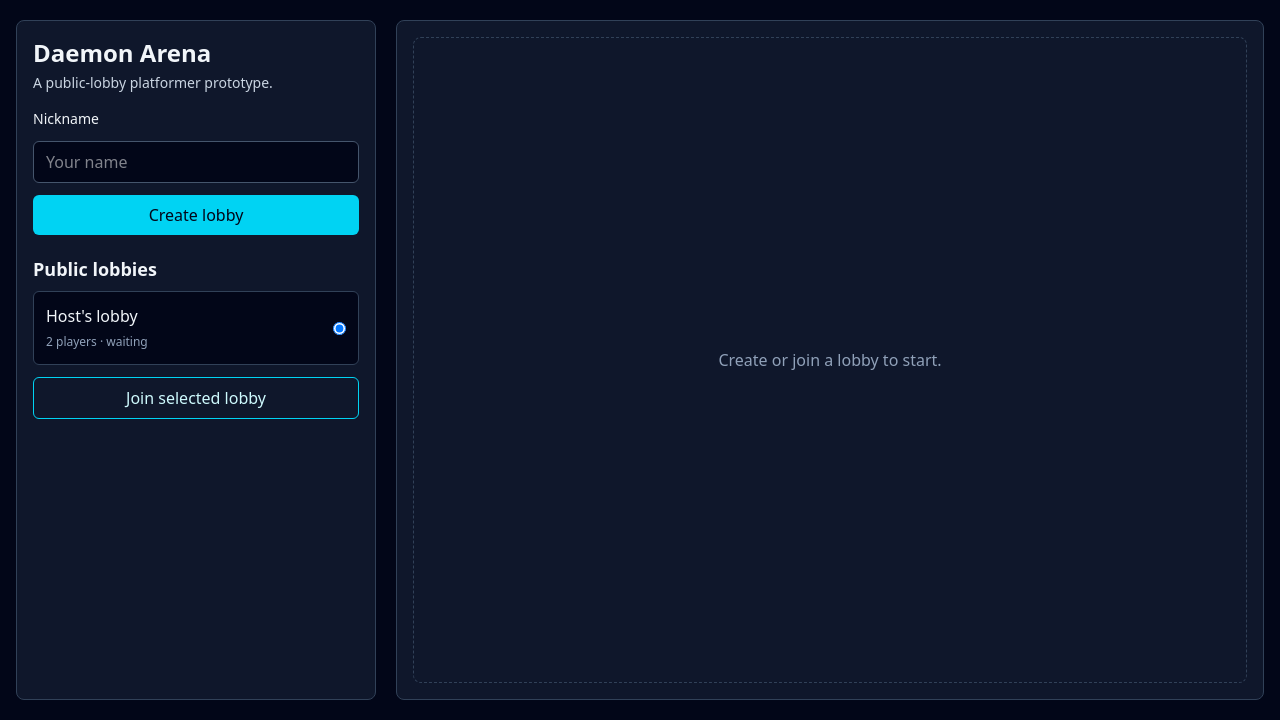
Test: GamePage › shows the game canvas and daemon placeholder after start
The image size is (1280, 720).
In the field labelled "Nickname": [196, 162] box top-left (33, 141), bottom-right (359, 183), type "Host"
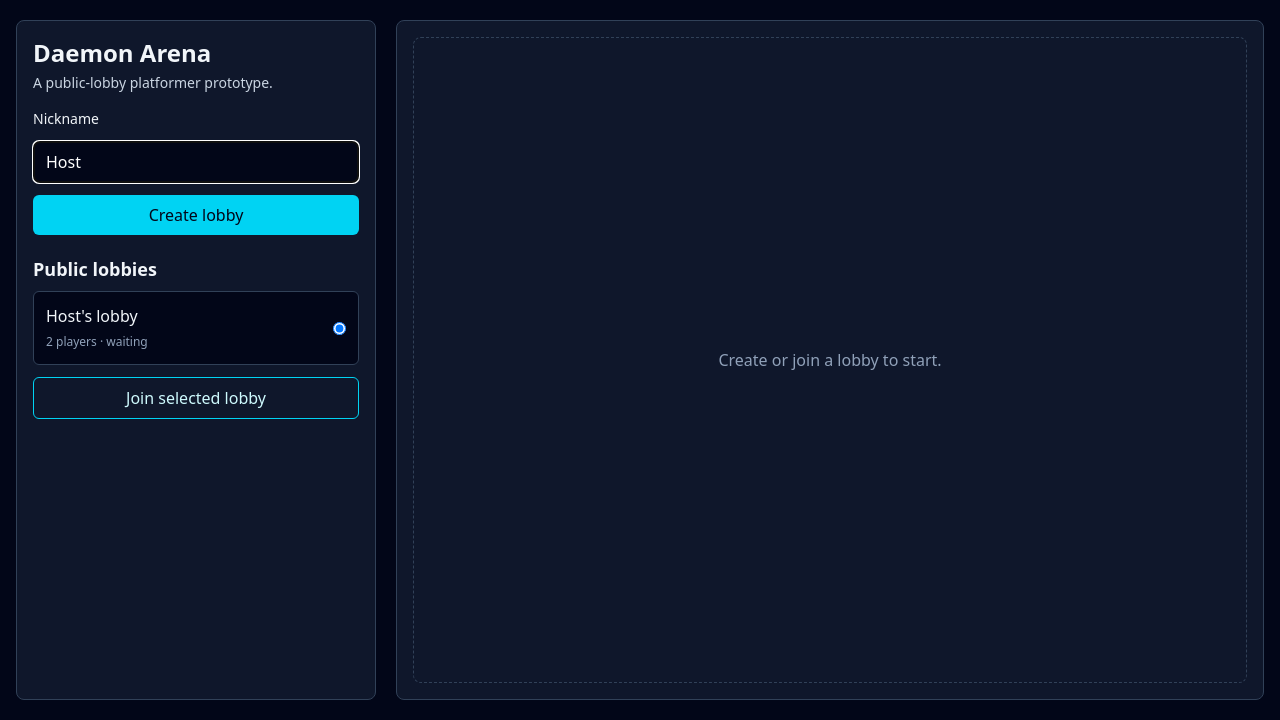
Click the button "Create lobby": [196, 215] box top-left (33, 195), bottom-right (359, 235)
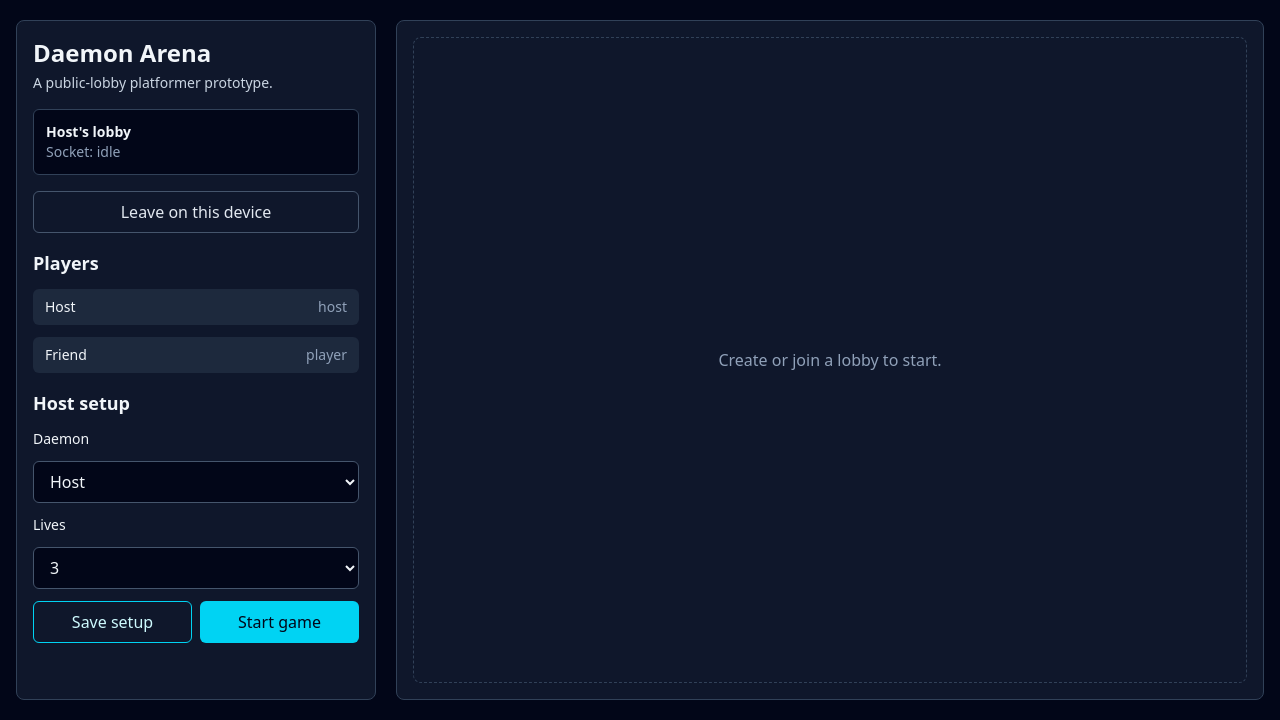
Select "Friend" in the dropdown labelled "Daemon": [196, 482] box top-left (33, 461), bottom-right (359, 503)
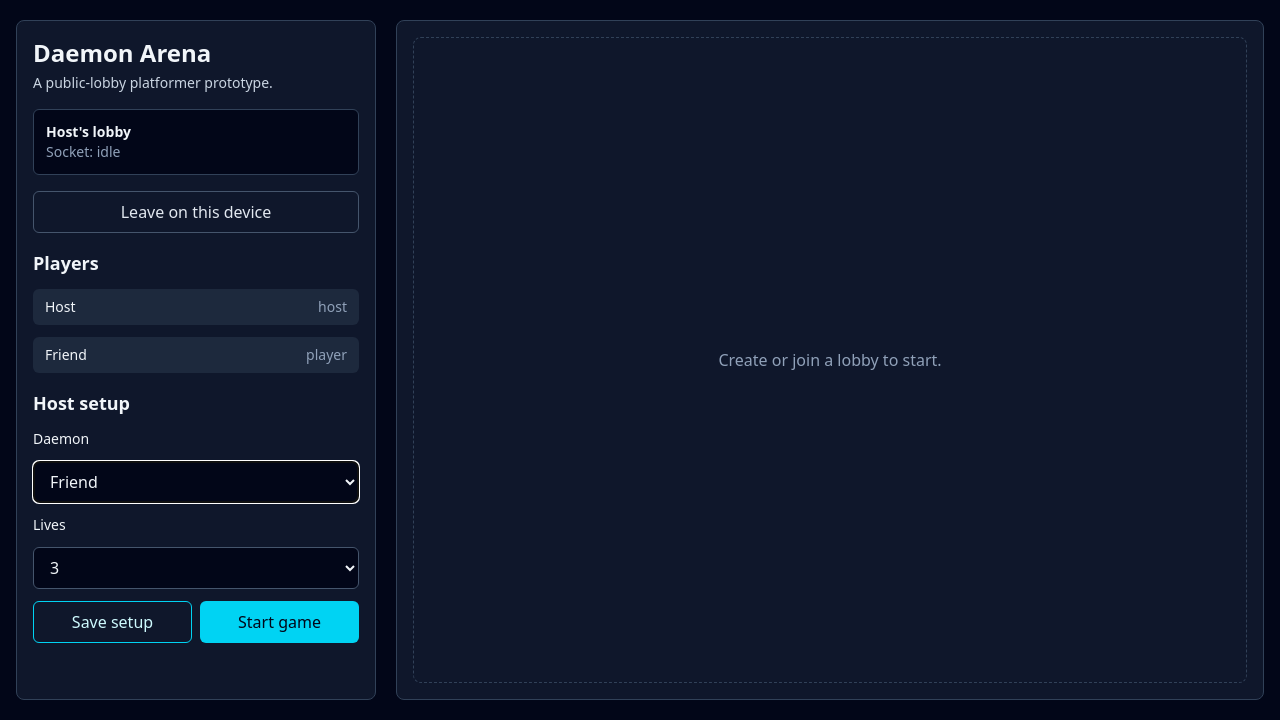
Click the button "Start game": [280, 622] box top-left (200, 601), bottom-right (359, 643)
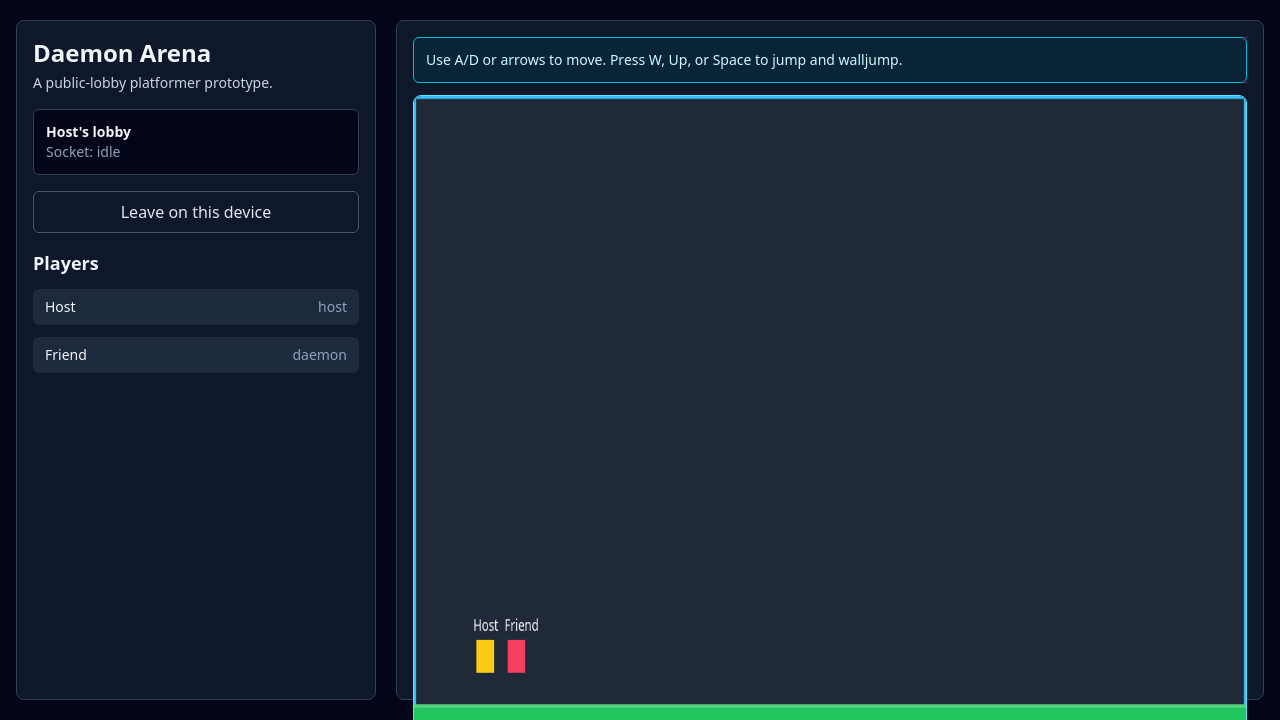
expect the text "Use A/D or arrows" is shown: met, box top-left (426, 50), bottom-right (902, 69)
